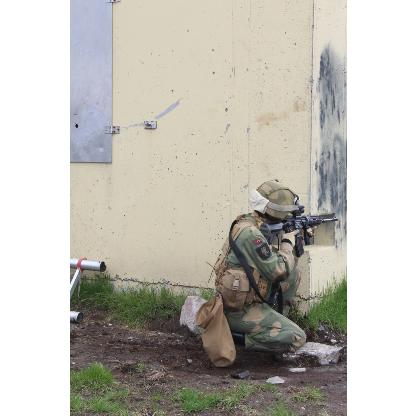gun: (259, 216, 333, 254)
